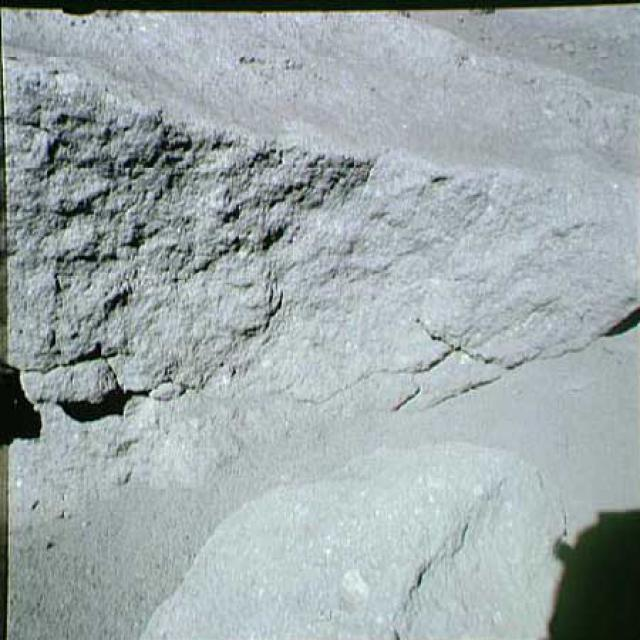rock: (0, 3, 639, 417), (135, 438, 568, 639), (1, 372, 419, 507)
